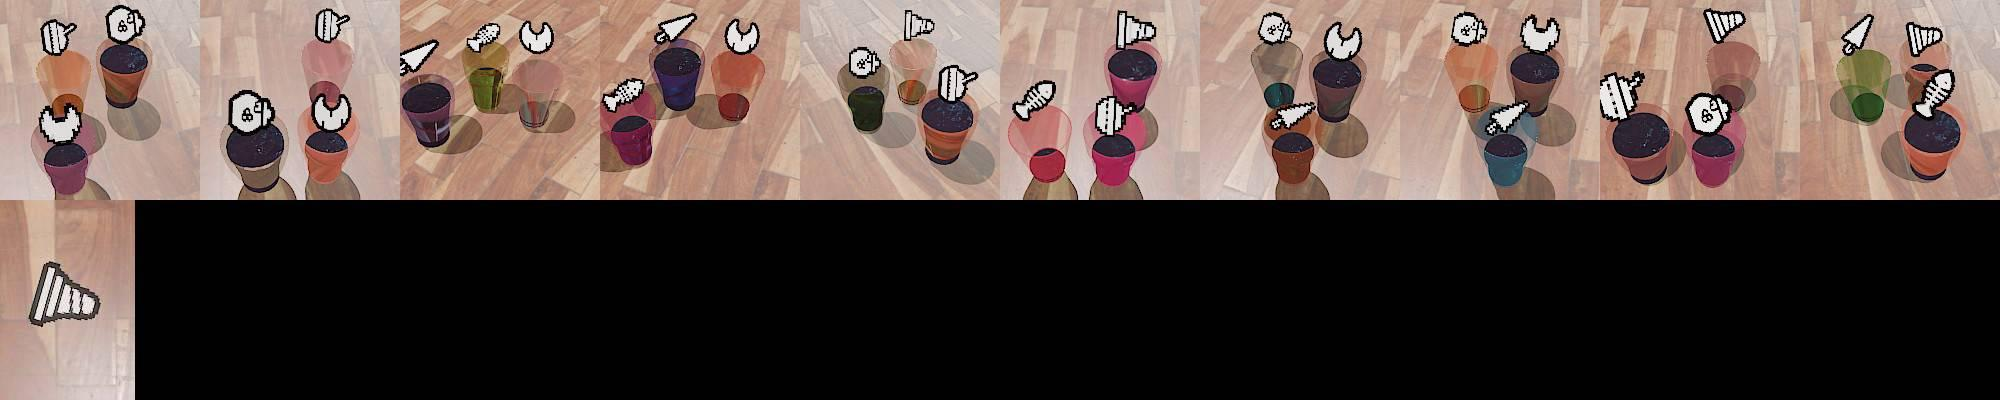icon: (24, 259, 106, 327), (1597, 70, 1647, 121), (1682, 90, 1733, 135), (1912, 68, 1957, 117), (227, 88, 274, 134), (38, 99, 83, 144), (1013, 78, 1057, 121), (937, 64, 980, 107), (310, 89, 352, 132), (599, 76, 648, 113), (1519, 14, 1562, 55), (1483, 98, 1532, 134), (1324, 19, 1364, 62), (1093, 92, 1131, 136), (1703, 8, 1746, 46), (1116, 10, 1157, 50), (653, 10, 698, 46), (103, 5, 144, 43), (1268, 98, 1315, 130), (1907, 19, 1945, 57), (40, 18, 77, 56), (401, 38, 439, 75), (723, 17, 760, 54), (1841, 14, 1874, 55), (1450, 11, 1487, 47), (519, 18, 555, 54), (314, 8, 349, 43), (466, 22, 503, 55), (1259, 11, 1292, 45), (848, 46, 881, 78), (903, 9, 936, 41)
